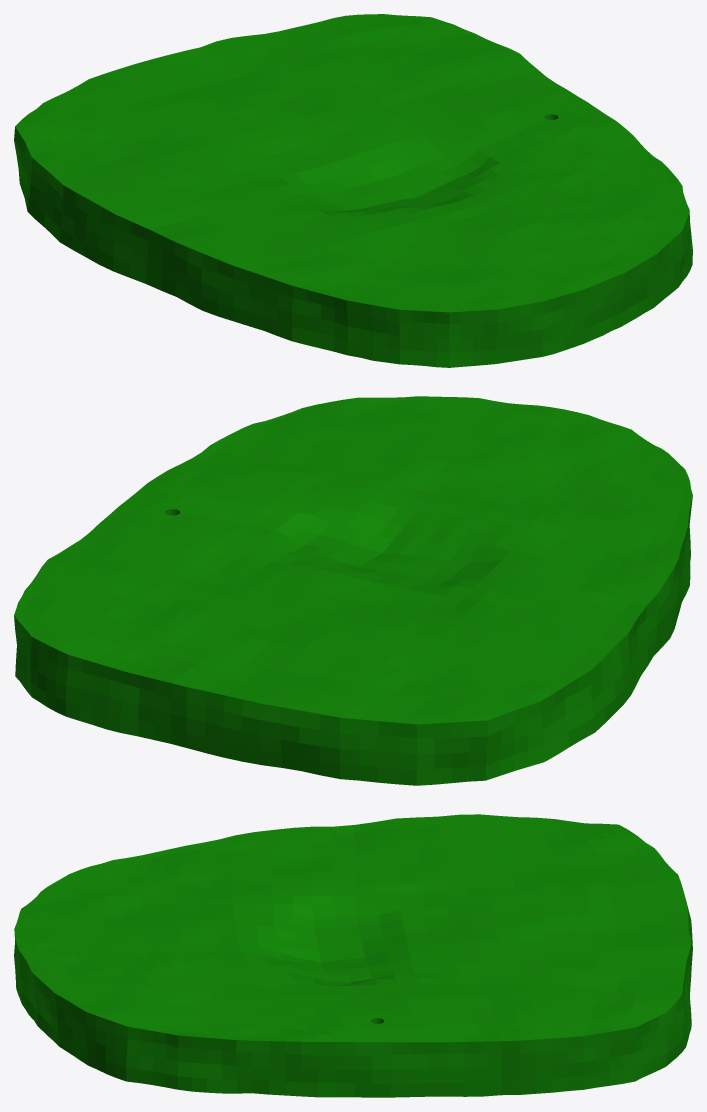
The model's file is Mini Golf main island new.fbx.
The picture shows the model from 3 angles, top to bottom: view 1: azimuth 30°, elevation 25°; view 2: azimuth 150°, elevation 25°; view 3: azimuth 270°, elevation 25°; orthographic projection. The views are drawn at different scales.
Visible parts, largest first — view 1: Hole 3 Main Area; view 2: Hole 3 Main Area; view 3: Hole 3 Main Area.
Part boxes in pixels (bbox=[...]): Hole 3 Main Area: bbox=[14, 14, 692, 367]; Hole 3 Main Area: bbox=[14, 396, 692, 785]; Hole 3 Main Area: bbox=[14, 814, 692, 1097].
Size of the model in its own units: 1553 by 178 by 1931.
